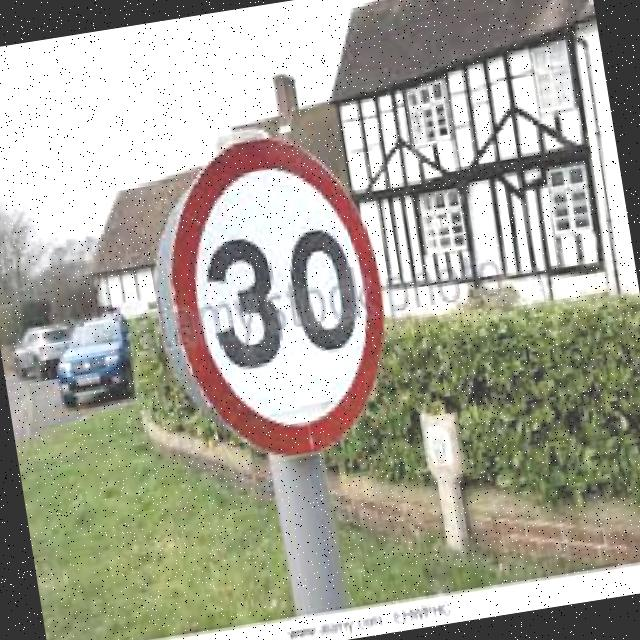Ograniczenie predkosci do 30: (159, 128, 404, 469)
